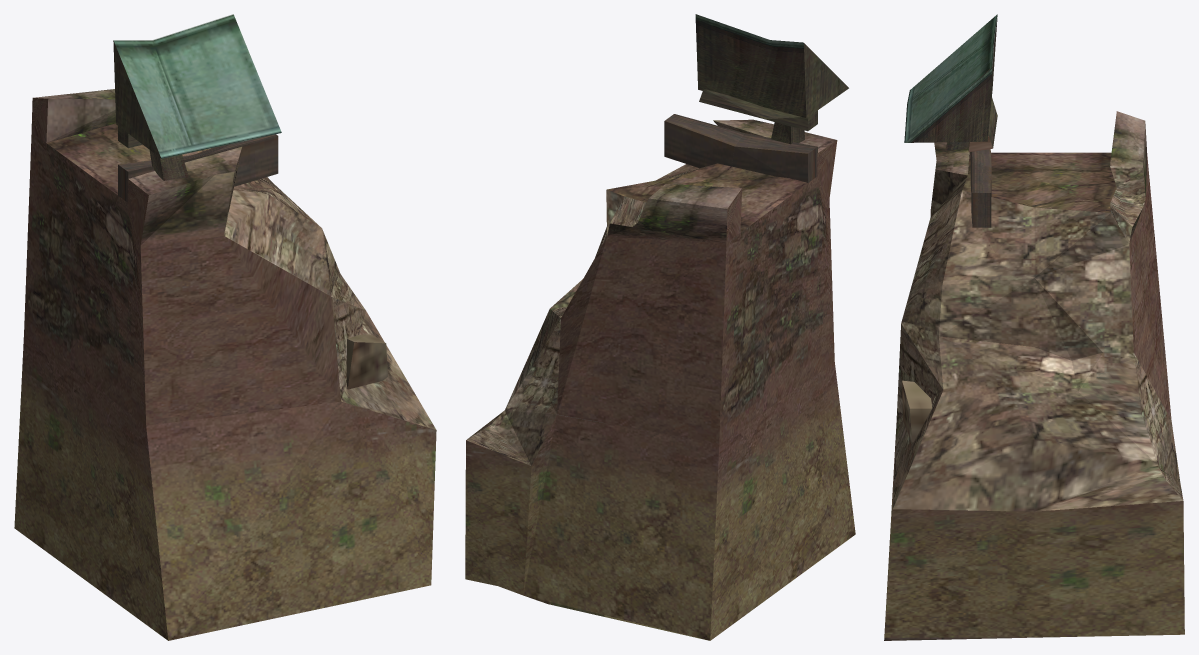
File: C1SMWA20RUBEND2_H.obj
3 views of the same model, side by side, from view 1: azimuth 30°, elevation 25°; view 2: azimuth 150°, elevation 25°; view 3: azimuth 270°, elevation 25° (orthographic). The views are drawn at different scales.
Visible parts, largest first — view 1: Node 0; view 2: Node 0; view 3: Node 0.
Boxes of the visible parts, <box> form: Node 0: <box>14,14,436,640</box>; Node 0: <box>465,14,855,640</box>; Node 0: <box>884,14,1184,640</box>.
Size of the model in its own units: 6.09 by 12.31 by 6.54.
5 materials, 5 textured.
